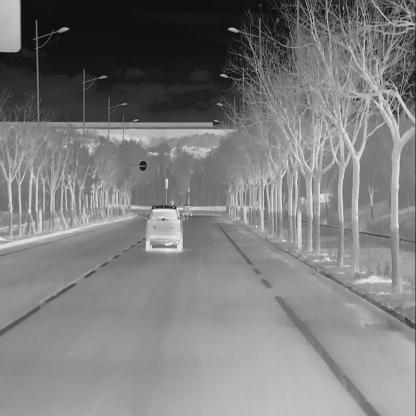car: (144, 205, 184, 250), (182, 204, 192, 218)
